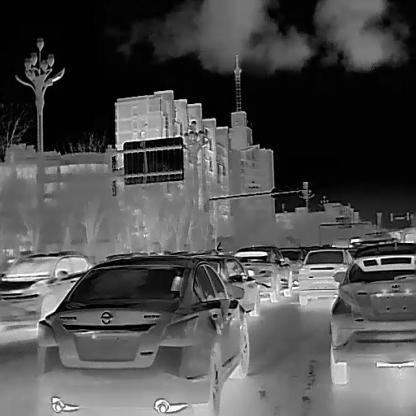car: (35, 253, 251, 415), (328, 243, 416, 384), (0, 247, 87, 336), (202, 253, 260, 318), (235, 241, 293, 303), (295, 247, 354, 304)
